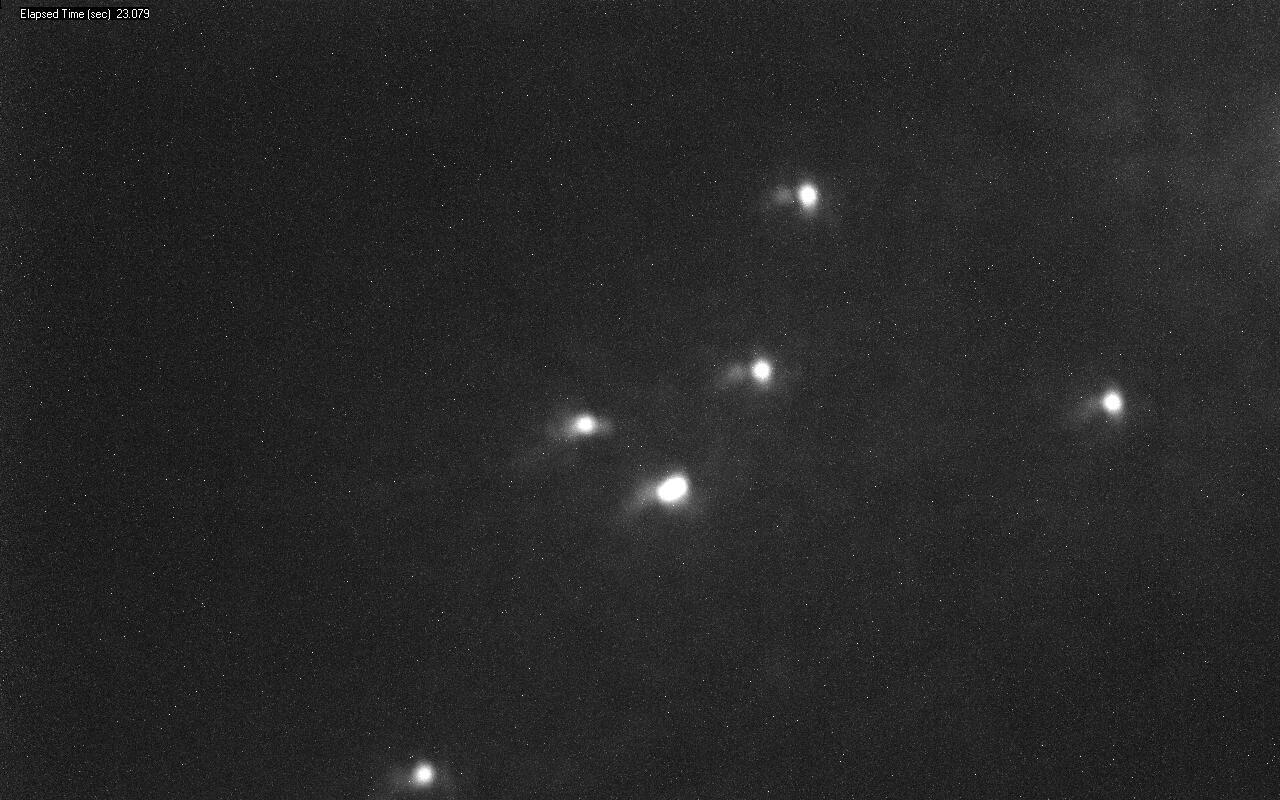Bead: (570, 413, 602, 436), (410, 762, 437, 787), (794, 183, 818, 209), (750, 357, 771, 385), (1100, 391, 1123, 414)
